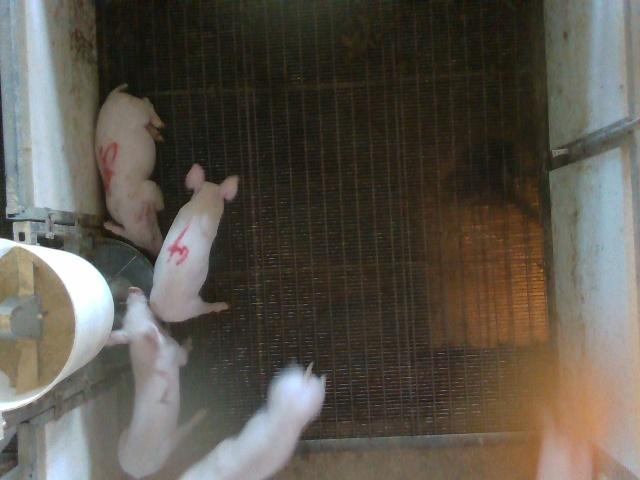pig-2: (109, 288, 188, 477)
pig-4: (150, 164, 238, 322)
pig-5: (95, 84, 164, 256)
